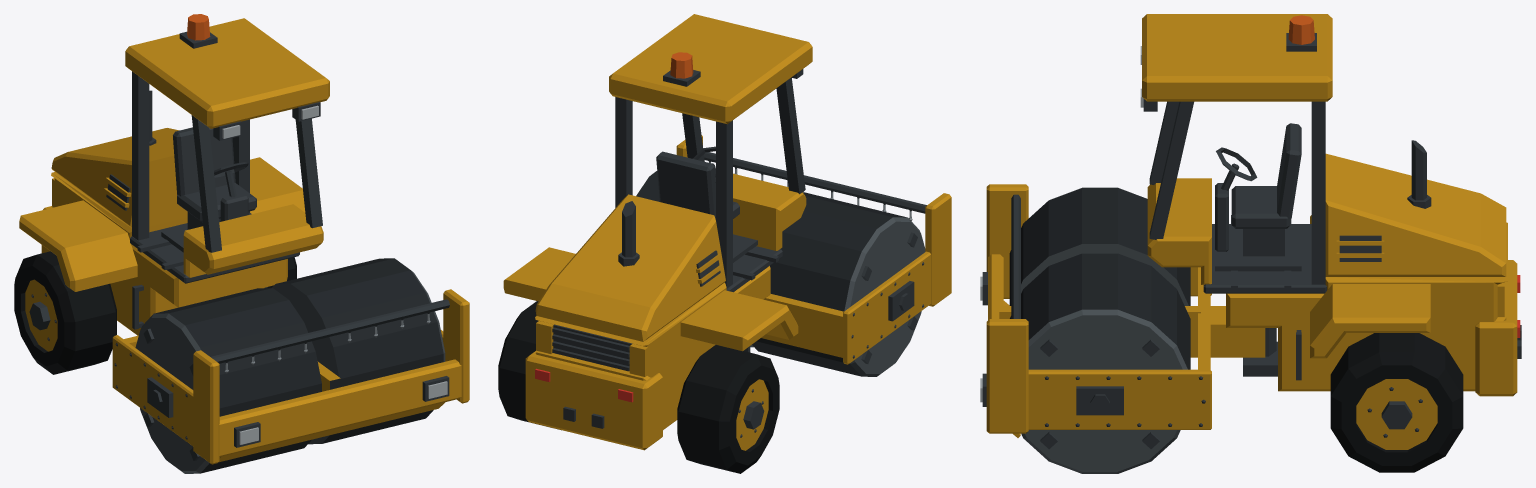
Rendered from tandem-road-roller-f7d8f3.glb.
3 renders of one model, left to right at view 1: azimuth 30°, elevation 25°; view 2: azimuth 150°, elevation 25°; view 3: azimuth 270°, elevation 25°, orthographic. The views are drawn at different scales.
Parts seen in each view (by area): view 1: rear-unit, front-frame, drum-mesh-fr, drum-mesh-fl, tyre-mesh-r, platform-mesh; view 2: rear-unit, drum-mesh-fr, front-frame, tyre-mesh-r, platform-mesh, tyre-mesh-l; view 3: rear-unit, front-frame, drum-mesh-fl, tyre-mesh-l, drum-mesh-fr, platform-mesh.
Boxes of the visible parts, bbox=[...] form: rear-unit: bbox=[19, 14, 329, 335]; front-frame: bbox=[112, 289, 469, 464]; drum-mesh-fr: bbox=[135, 288, 321, 473]; drum-mesh-fl: bbox=[272, 258, 445, 444]; tyre-mesh-r: bbox=[14, 251, 116, 374]; platform-mesh: bbox=[161, 127, 256, 252]; rear-unit: bbox=[503, 14, 812, 450]; drum-mesh-fr: bbox=[752, 192, 925, 376]; front-frame: bbox=[676, 135, 951, 364]; tyre-mesh-r: bbox=[677, 345, 779, 473]; platform-mesh: bbox=[656, 146, 757, 262]; tyre-mesh-l: bbox=[498, 301, 561, 430]; rear-unit: bbox=[1140, 14, 1521, 396]; front-frame: bbox=[980, 184, 1276, 437]; drum-mesh-fl: bbox=[1010, 253, 1190, 473]; tyre-mesh-l: bbox=[1330, 333, 1463, 472]; drum-mesh-fr: bbox=[1009, 187, 1190, 305]; platform-mesh: bbox=[1215, 123, 1301, 271].
Bounding box in the file's own units: 2.45 × 3.1 × 3.87.
